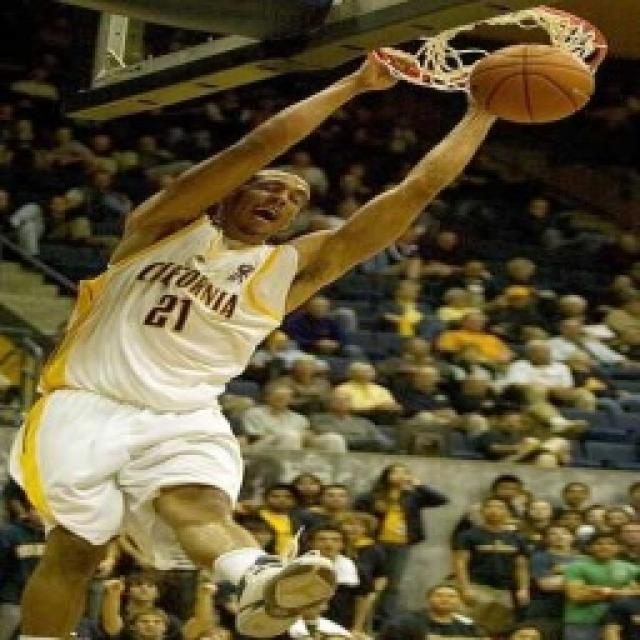rim: (460, 32, 611, 130)
